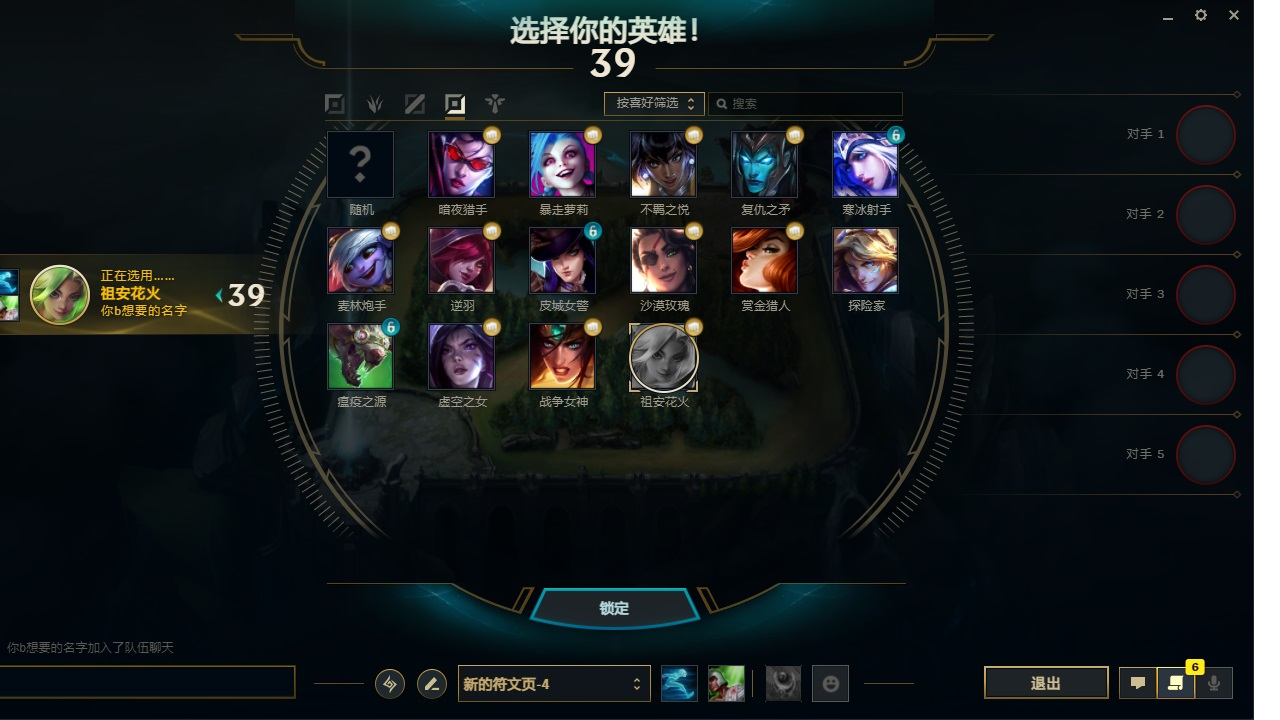HBSS: (831, 155, 905, 199)
JKS: (527, 149, 601, 198)
NJ: (524, 249, 596, 297)
NQ: (730, 251, 804, 294)
SD: (520, 579, 710, 635)
XDXL: (439, 86, 474, 118)
XP: (328, 245, 397, 292)
